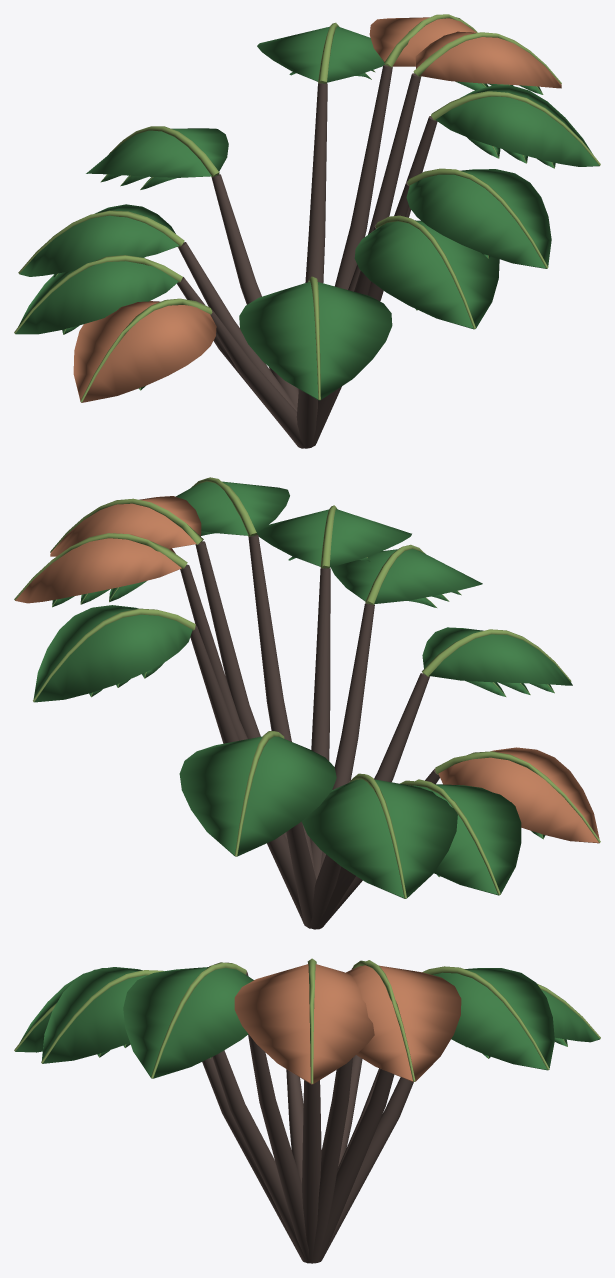
Rendered from xylo_shield_fern.glb.
The picture shows the model from 3 angles, top to bottom: view 1: azimuth 30°, elevation 25°; view 2: azimuth 150°, elevation 25°; view 3: azimuth 270°, elevation 25°; orthographic projection. The views are drawn at different scales.
Parts seen in each view (by area): view 1: xylo_shield_fern; view 2: xylo_shield_fern; view 3: xylo_shield_fern.
Part boxes in pixels (bbox=[...]): xylo_shield_fern: bbox=[14, 14, 600, 448]; xylo_shield_fern: bbox=[14, 477, 600, 929]; xylo_shield_fern: bbox=[14, 958, 600, 1263].
Size of the model in its own units: 11.95 by 8.36 by 11.81.
